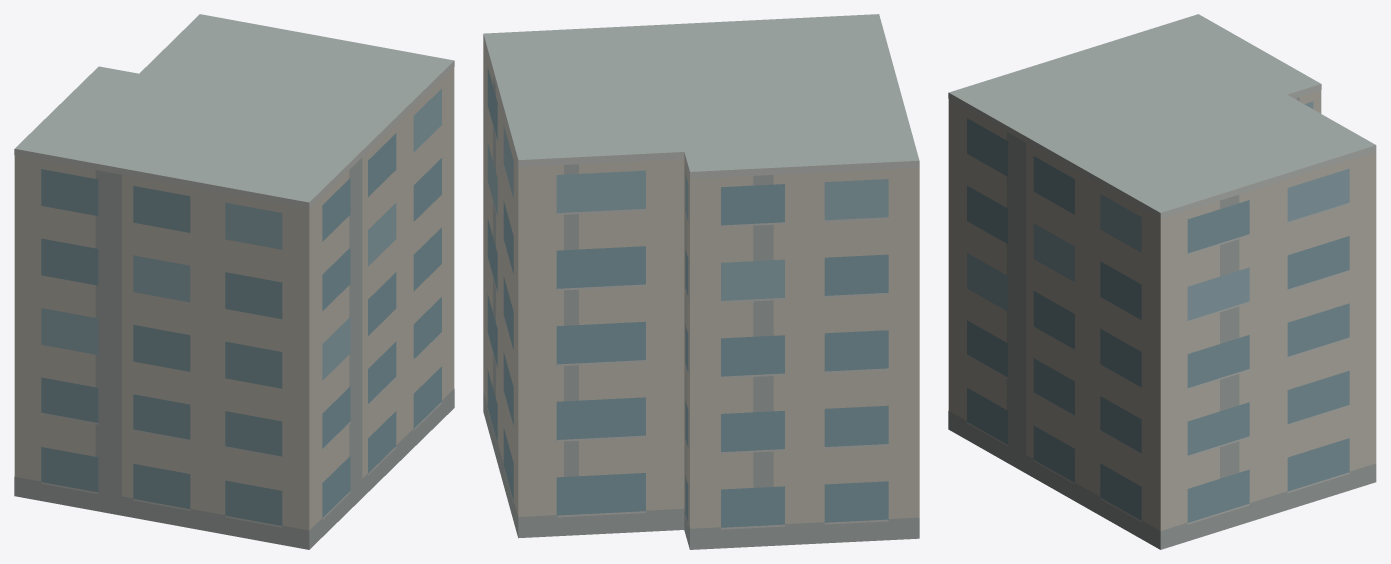
File: residential-477d2b54-f93e-435a-a085-233b68f8ec02.glb
The picture shows the model from 3 angles, left to right: view 1: azimuth 30°, elevation 25°; view 2: azimuth 150°, elevation 25°; view 3: azimuth 270°, elevation 25°; orthographic projection. The views are drawn at different scales.
Visible parts, largest first — view 1: residential-477d2b54-f93e-435a-a085-233b68f8ec02.tmp; view 2: residential-477d2b54-f93e-435a-a085-233b68f8ec02.tmp; view 3: residential-477d2b54-f93e-435a-a085-233b68f8ec02.tmp.
Boxes of the visible parts, <box> form: residential-477d2b54-f93e-435a-a085-233b68f8ec02.tmp: <box>14,14,454,549</box>; residential-477d2b54-f93e-435a-a085-233b68f8ec02.tmp: <box>483,14,919,549</box>; residential-477d2b54-f93e-435a-a085-233b68f8ec02.tmp: <box>948,14,1376,549</box>.
Bounding box in the file's own units: 16.6 × 13.1 × 15.08.
